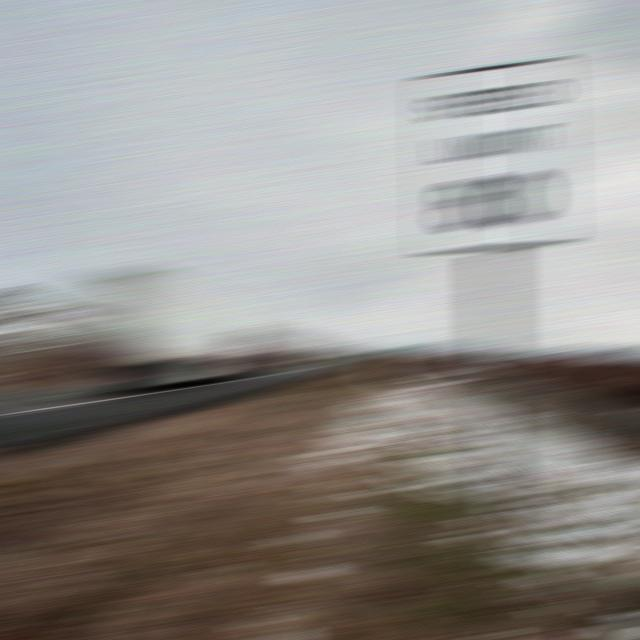speedLimit80: (421, 66, 566, 248)
